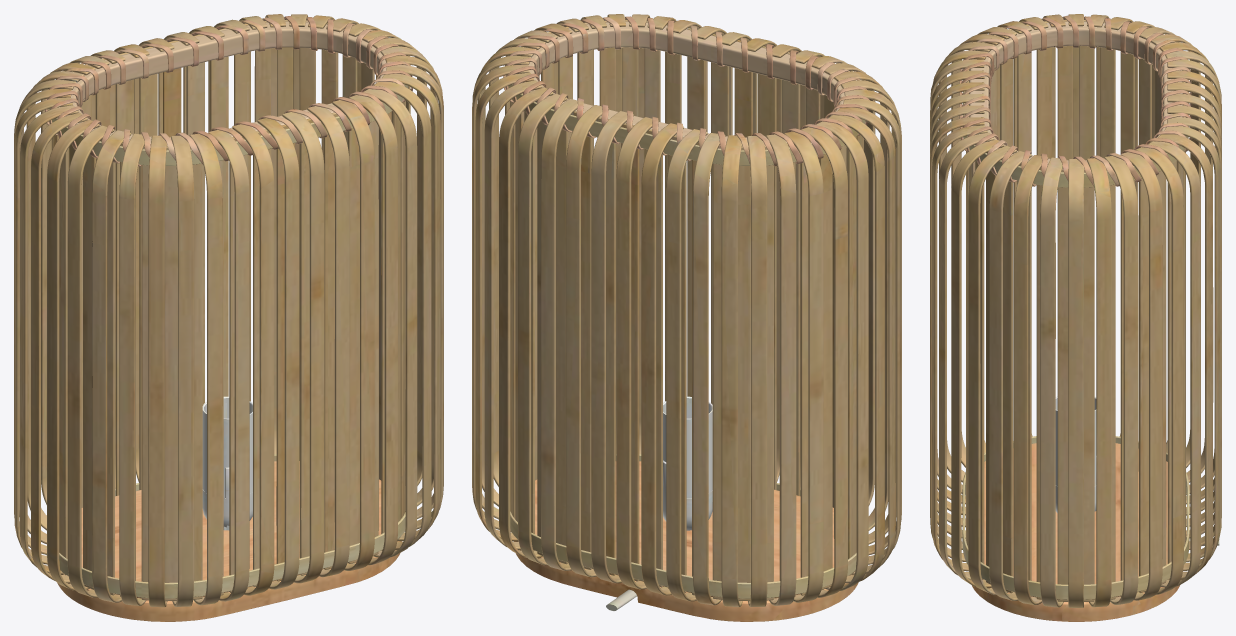
File: varptross_lampa_stoowa_60601230.glb
3 views of the same model, side by side, from view 1: azimuth 30°, elevation 25°; view 2: azimuth 150°, elevation 25°; view 3: azimuth 270°, elevation 25° (orthographic). The views are drawn at different scales.
Visible parts, largest first — view 1: varptross_lampa_stoowa_60601230; view 2: varptross_lampa_stoowa_60601230; view 3: varptross_lampa_stoowa_60601230.
Part boxes in pixels (bbox=[...]): varptross_lampa_stoowa_60601230: bbox=[14, 14, 443, 621]; varptross_lampa_stoowa_60601230: bbox=[472, 14, 901, 621]; varptross_lampa_stoowa_60601230: bbox=[930, 14, 1221, 621].
Size of the model in its own units: 0.2201 by 0.2607 by 0.1502.
Materials: 2 (2 with a texture image).
